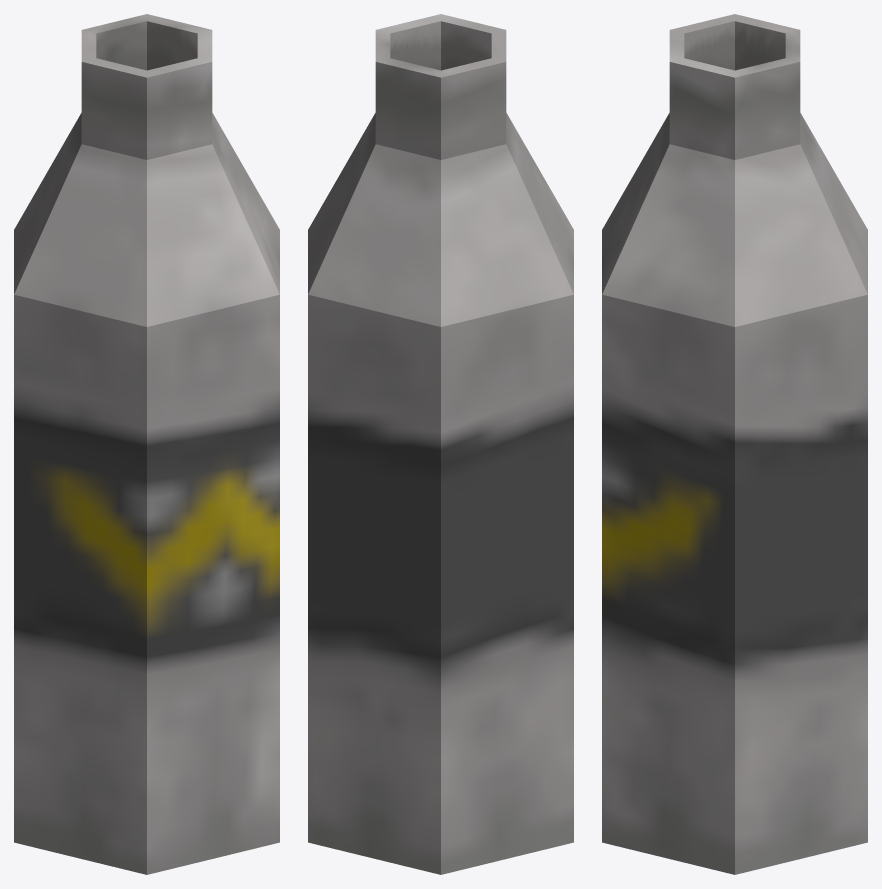
Rendered from SM_Bottle.fbx.
The picture shows the model from 3 angles, left to right: view 1: azimuth 30°, elevation 25°; view 2: azimuth 150°, elevation 25°; view 3: azimuth 270°, elevation 25°; orthographic projection.
Parts seen in each view (by area): view 1: bottle; view 2: bottle; view 3: bottle.
Boxes of the visible parts, box(x1,y1,x2,y2) form: bottle: box(14, 14, 279, 874); bottle: box(308, 14, 573, 874); bottle: box(602, 14, 867, 874).
Size of the model in its own units: 2.91 by 8 by 2.52.
Materials: 1 (1 with a texture image).
